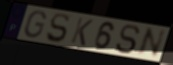6: (93, 21, 116, 50)
G: (23, 10, 47, 39)
K: (69, 16, 95, 48)
N: (134, 27, 168, 58)
S: (114, 24, 142, 55), (45, 12, 70, 44)
